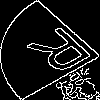R: (25, 25, 100, 83)
